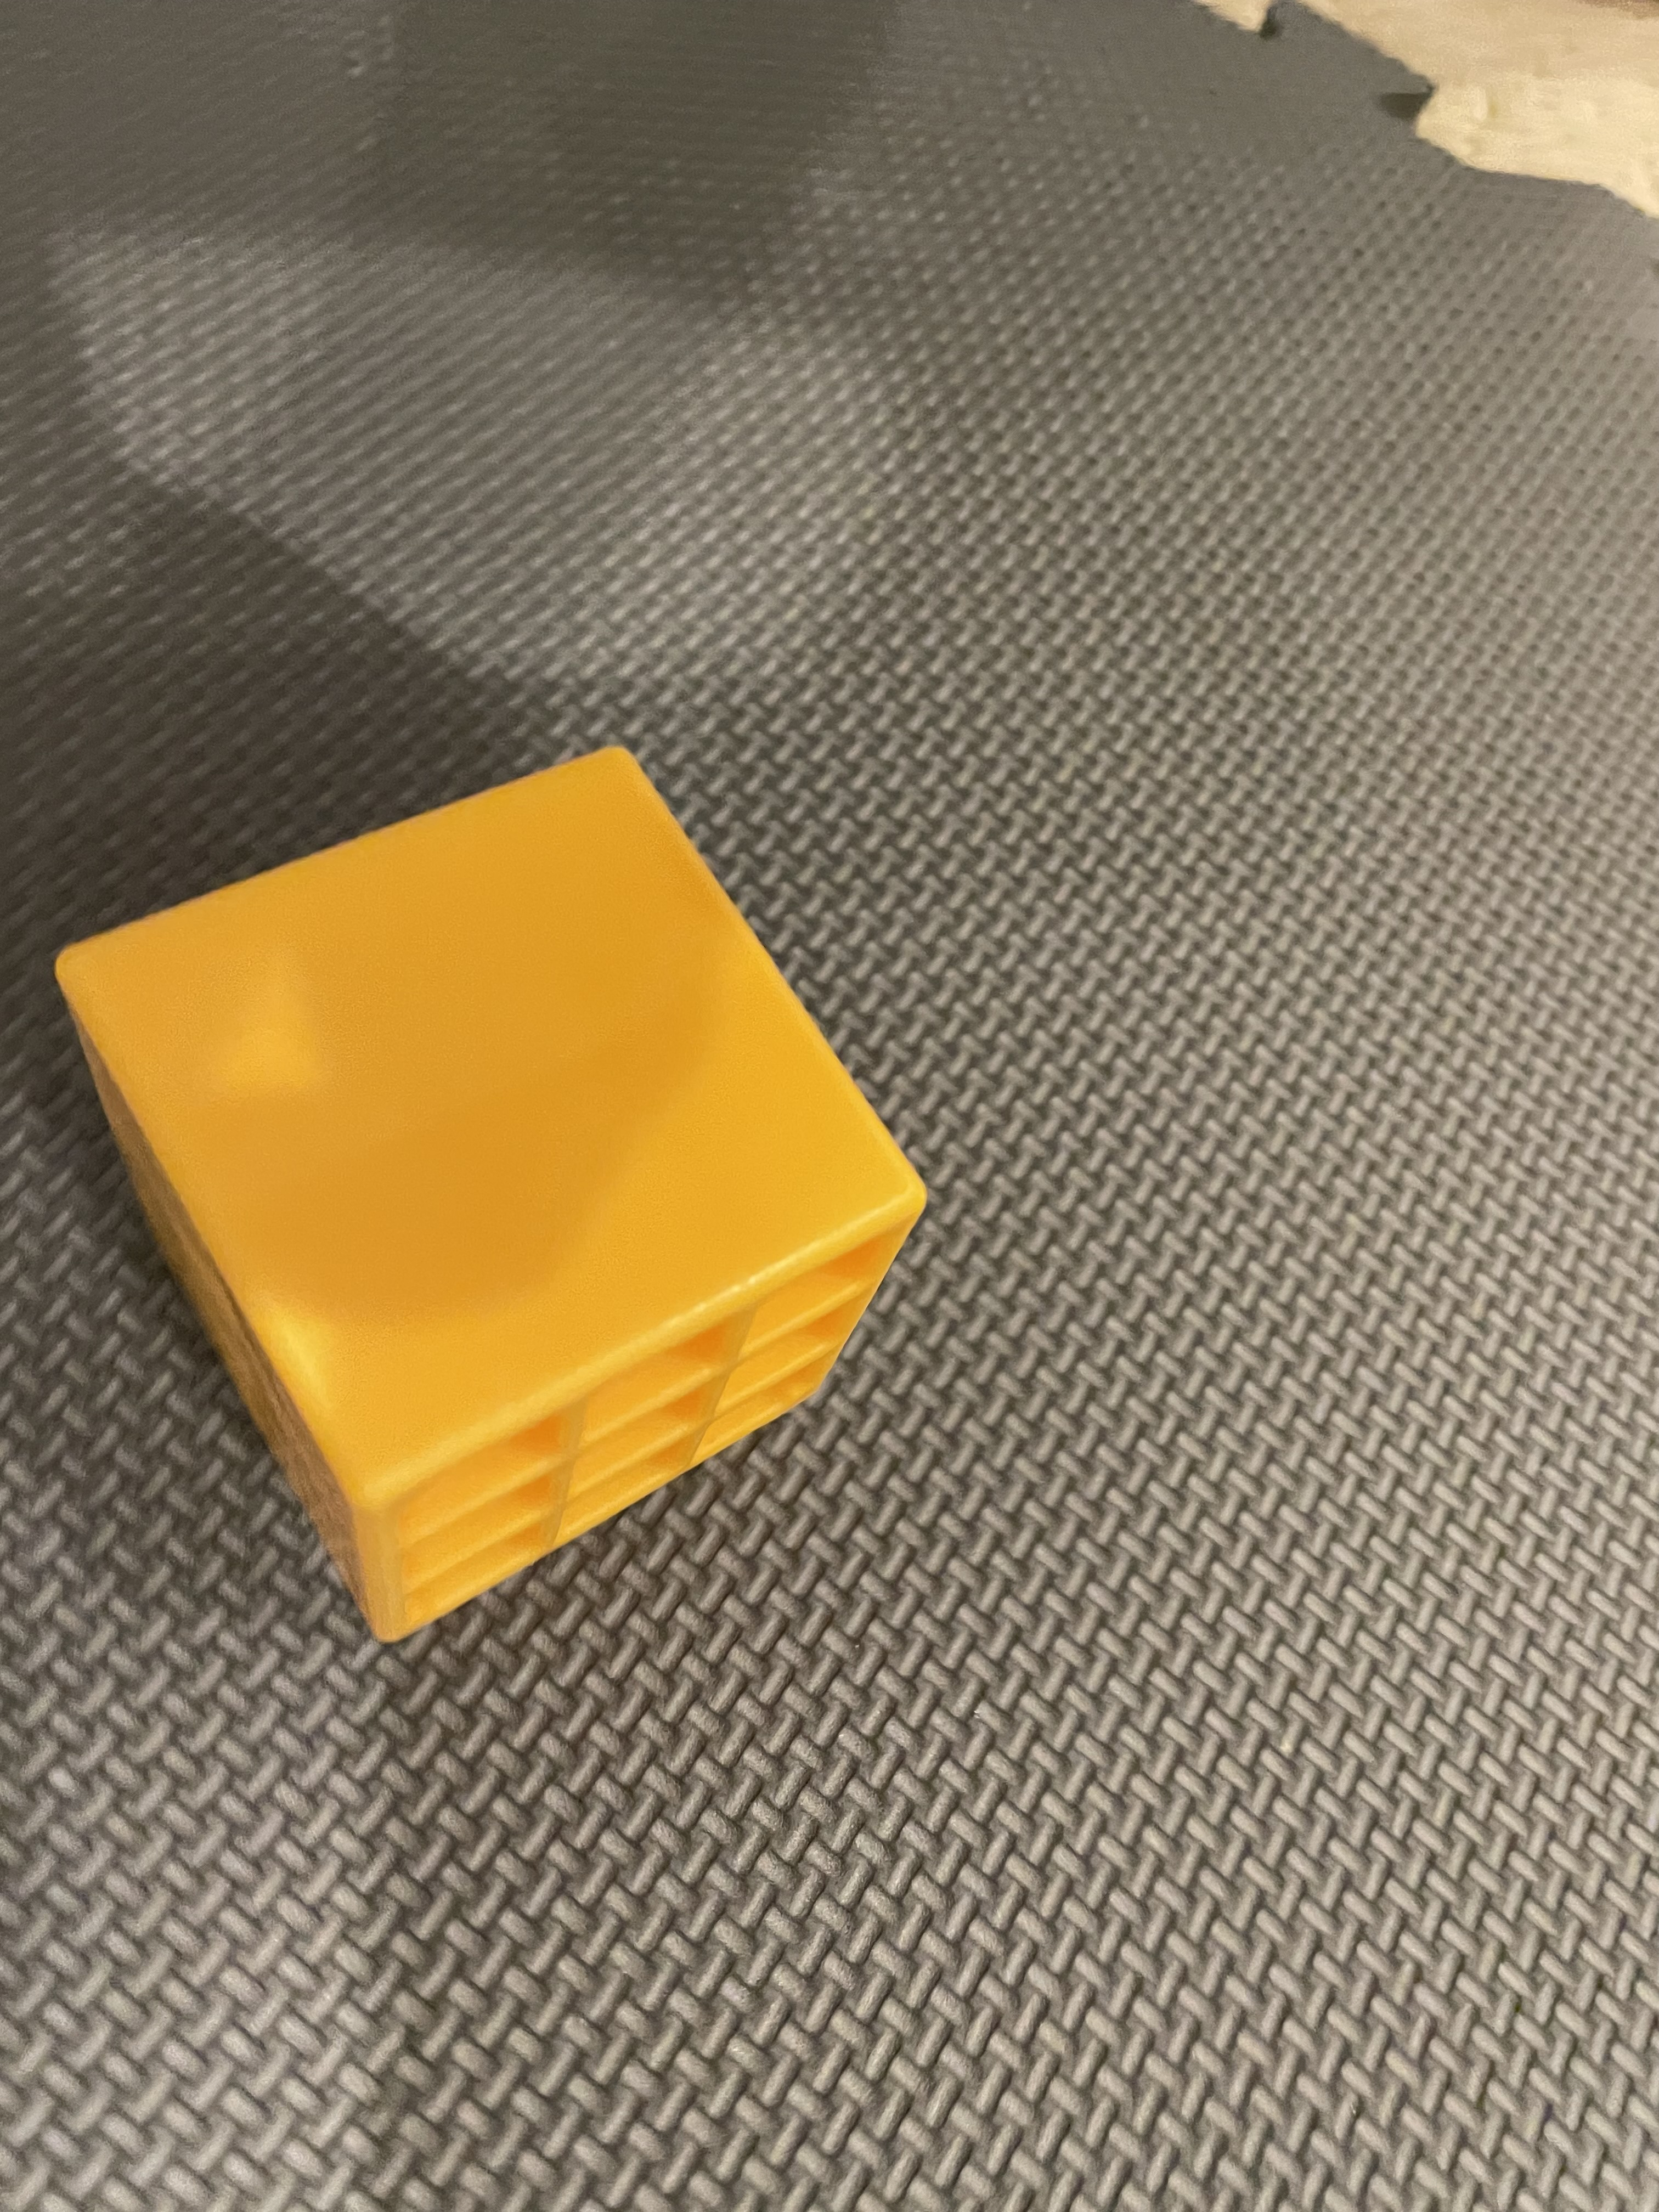cube: (45, 705, 946, 1677)
